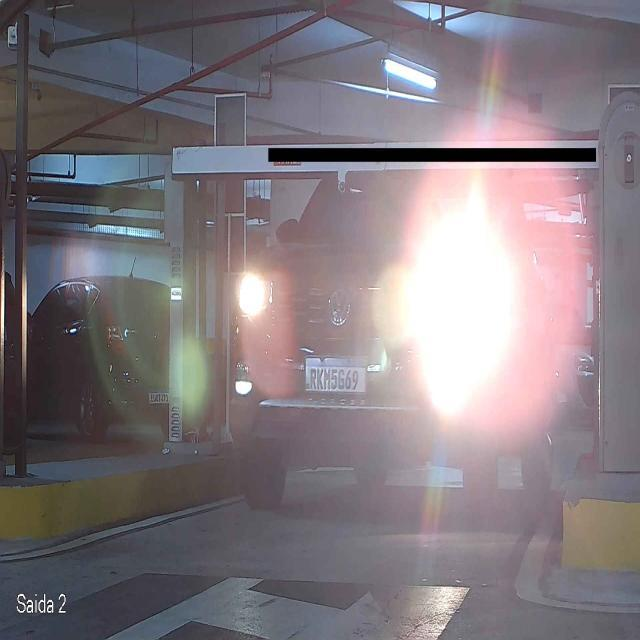mercosul_plate: (302, 354, 371, 398)
